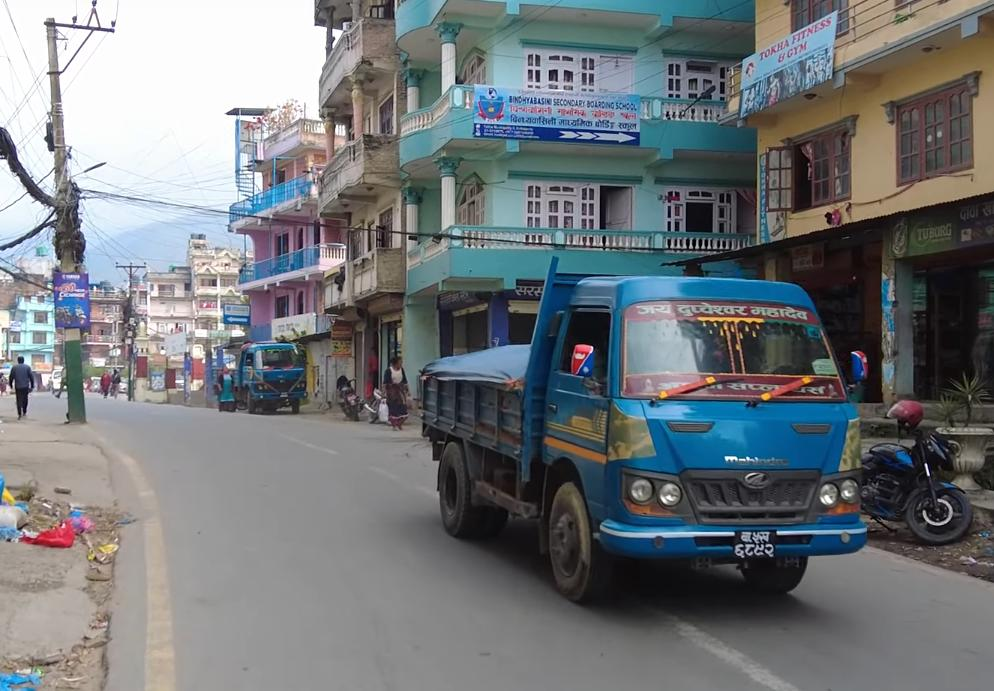bike: (855, 393, 970, 561), (332, 365, 366, 425)
mini_truck: (412, 245, 885, 611), (214, 333, 322, 424)
